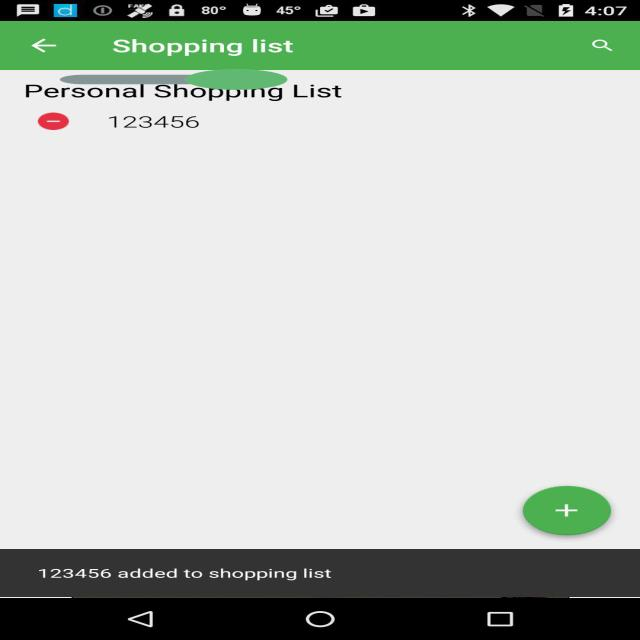social proof: (60, 56, 287, 103)
